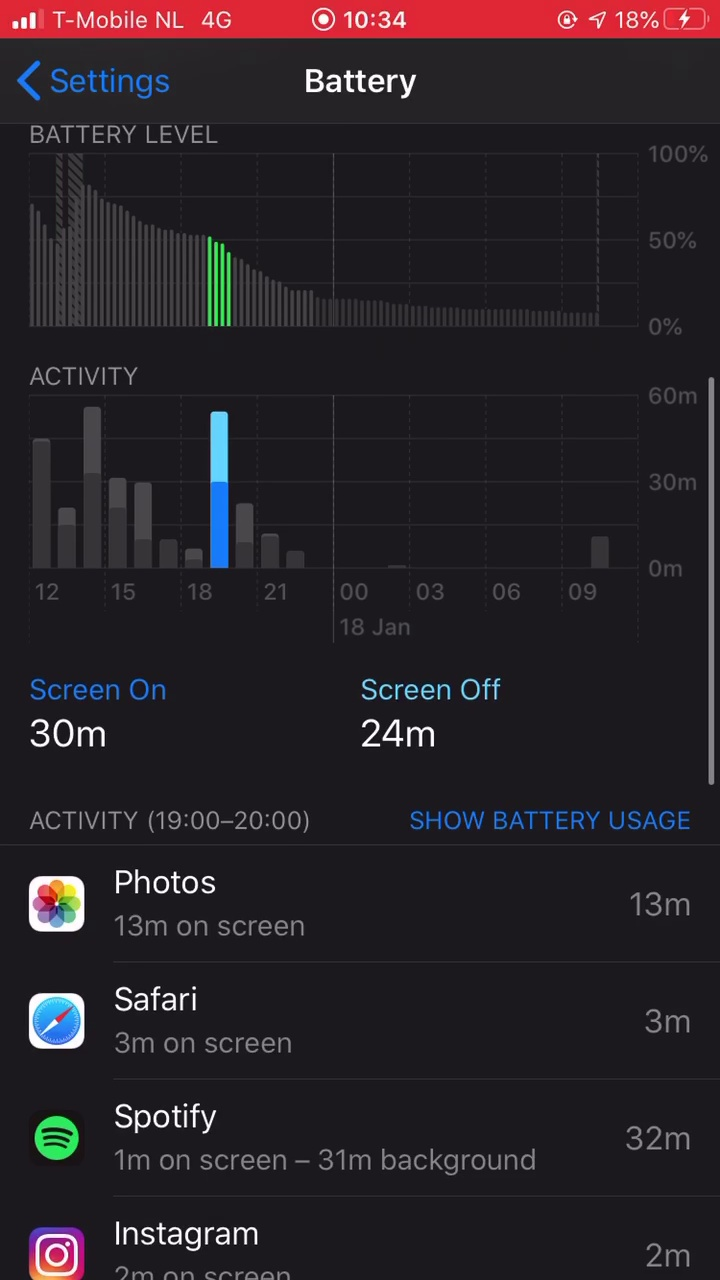activity: (3, 797, 332, 838)
app: (7, 979, 705, 1062), (7, 1099, 701, 1182), (13, 863, 707, 944)
